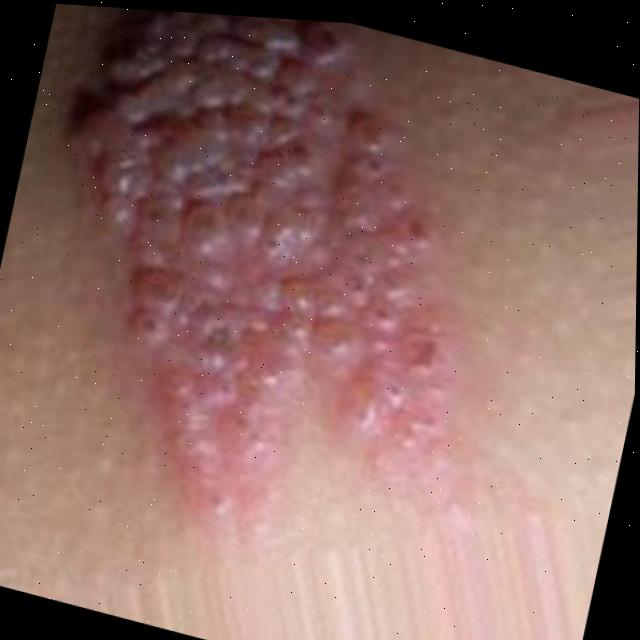Shingles: (0, 0, 526, 576)
